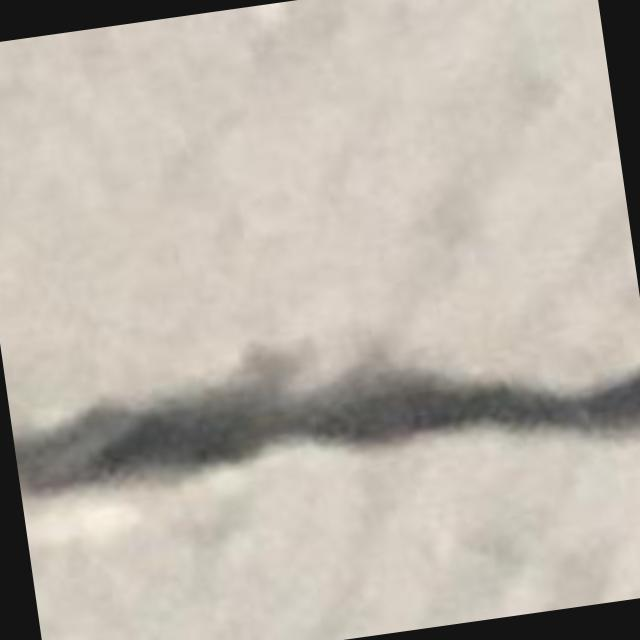crack: (14, 355, 639, 494)
